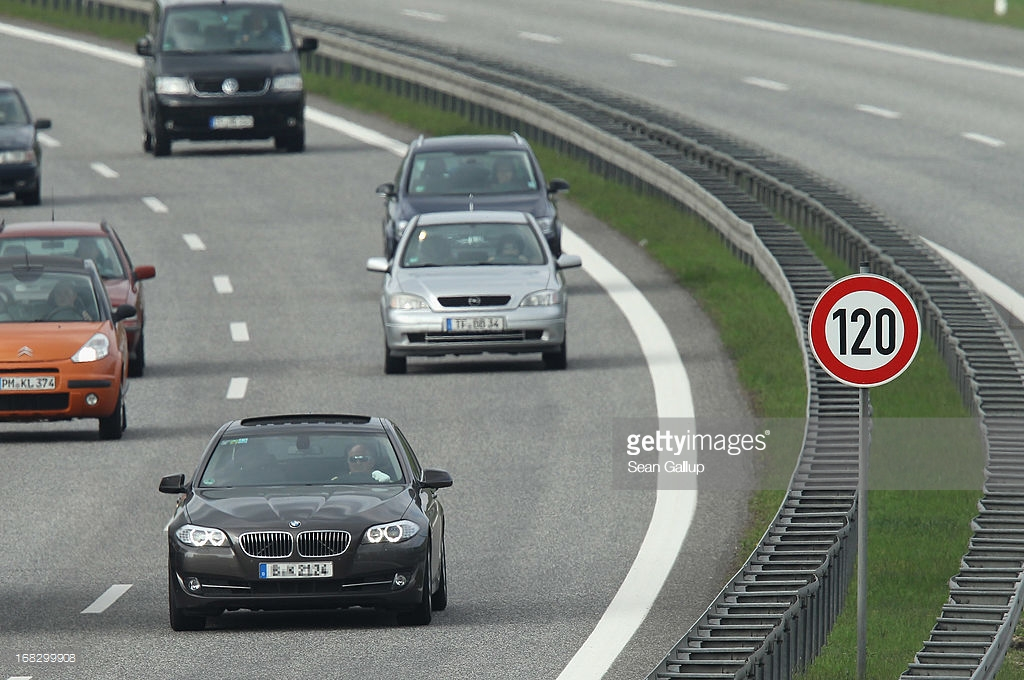Speed_limit_120km: (805, 271, 924, 393)
car: (154, 411, 461, 627), (361, 206, 587, 375), (131, 1, 321, 165)
